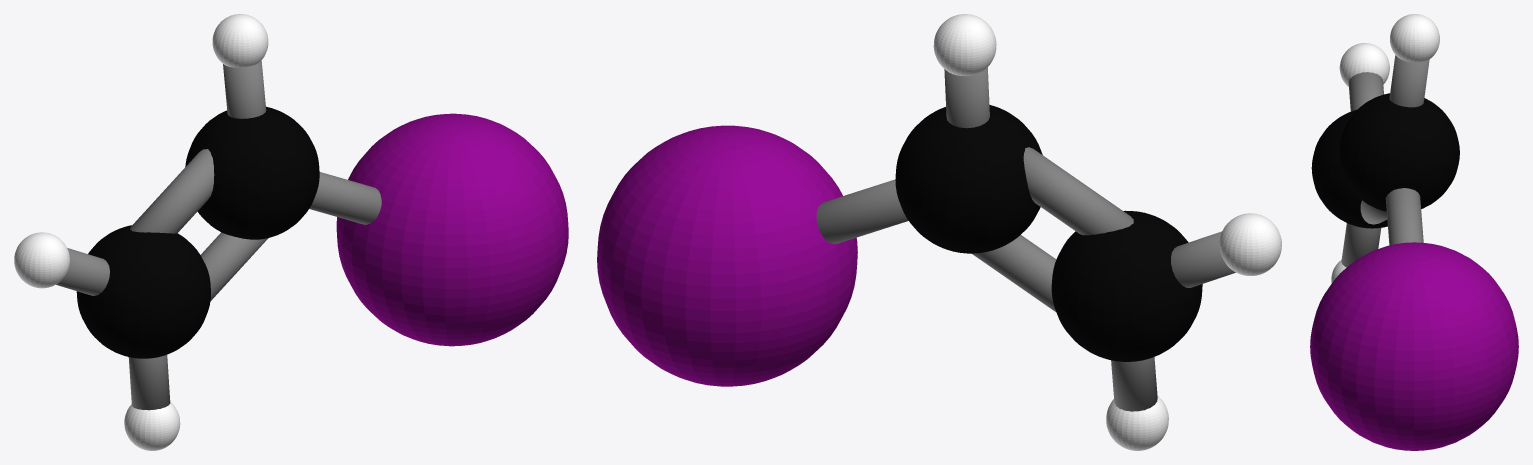
File: VINILO.obj
The picture shows the model from 3 angles, left to right: view 1: azimuth 30°, elevation 25°; view 2: azimuth 150°, elevation 25°; view 3: azimuth 270°, elevation 25°; orthographic projection. The views are drawn at different scales.
Parts seen in each view (by area): view 1: Iodine_ball_Sphere.002, Carbon_ball_Sphere.001, Hydrogen_ball_Sphere, Stick_Cylinder.003_Cylinder.003, Stick_Cylinder.004_Cylinder.004, Stick_Cylinder.005_Cylinder.005, Stick_Cylinder_Cylinder, Stick_Cylinder.001_Cylinder.001, Stick_Cylinder.002_Cylinder.002; view 2: Iodine_ball_Sphere.002, Carbon_ball_Sphere.001, Hydrogen_ball_Sphere, Stick_Cylinder.003_Cylinder.003, Stick_Cylinder.004_Cylinder.004, Stick_Cylinder.005_Cylinder.005, Stick_Cylinder_Cylinder, Stick_Cylinder.002_Cylinder.002, Stick_Cylinder.001_Cylinder.001; view 3: Iodine_ball_Sphere.002, Carbon_ball_Sphere.001, Hydrogen_ball_Sphere, Stick_Cylinder.004_Cylinder.004, Stick_Cylinder_Cylinder, Stick_Cylinder.001_Cylinder.001, Stick_Cylinder.002_Cylinder.002, Stick_Cylinder.005_Cylinder.005.
Part boxes in pixels (bbox=[...]): Iodine_ball_Sphere.002: bbox=[336, 113, 568, 346]; Carbon_ball_Sphere.001: bbox=[76, 106, 319, 358]; Hydrogen_ball_Sphere: bbox=[14, 14, 268, 450]; Stick_Cylinder.003_Cylinder.003: bbox=[130, 149, 214, 233]; Stick_Cylinder.004_Cylinder.004: bbox=[309, 172, 381, 224]; Stick_Cylinder.005_Cylinder.005: bbox=[200, 232, 268, 301]; Stick_Cylinder_Cylinder: bbox=[223, 60, 266, 118]; Stick_Cylinder.001_Cylinder.001: bbox=[128, 355, 170, 410]; Stick_Cylinder.002_Cylinder.002: bbox=[56, 248, 109, 295]; Iodine_ball_Sphere.002: bbox=[597, 125, 857, 386]; Carbon_ball_Sphere.001: bbox=[895, 105, 1202, 361]; Hydrogen_ball_Sphere: bbox=[933, 14, 1281, 450]; Stick_Cylinder.003_Cylinder.003: bbox=[1023, 147, 1133, 235]; Stick_Cylinder.004_Cylinder.004: bbox=[816, 179, 908, 243]; Stick_Cylinder.005_Cylinder.005: bbox=[972, 235, 1056, 312]; Stick_Cylinder_Cylinder: bbox=[944, 67, 989, 128]; Stick_Cylinder.002_Cylinder.002: bbox=[1171, 231, 1235, 287]; Stick_Cylinder.001_Cylinder.001: bbox=[1111, 357, 1157, 411]; Iodine_ball_Sphere.002: bbox=[1310, 242, 1518, 450]; Carbon_ball_Sphere.001: bbox=[1311, 93, 1459, 228]; Hydrogen_ball_Sphere: bbox=[1331, 14, 1439, 283]; Stick_Cylinder.004_Cylinder.004: bbox=[1385, 188, 1423, 245]; Stick_Cylinder_Cylinder: bbox=[1389, 55, 1429, 107]; Stick_Cylinder.001_Cylinder.001: bbox=[1341, 223, 1381, 267]; Stick_Cylinder.002_Cylinder.002: bbox=[1348, 72, 1383, 111]; Stick_Cylinder.005_Cylinder.005: bbox=[1360, 200, 1387, 224].
Size of the model in its own units: 6.69 by 4.29 by 2.39.
